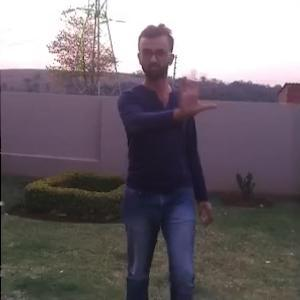follow_hand: (173, 63, 219, 114)
